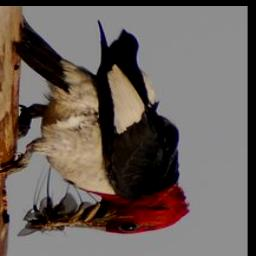Woodpecker: (0, 18, 189, 235)
